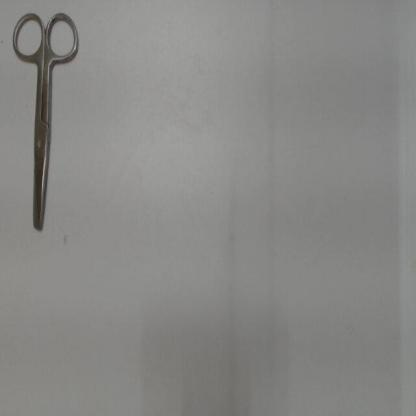Dressing Scissors: (4, 2, 91, 246)
